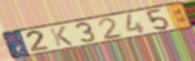2: (27, 29, 53, 54), (98, 17, 125, 41)
3: (74, 21, 97, 44)
4: (124, 12, 147, 35)
5: (143, 7, 173, 31)
K: (48, 25, 75, 48)
